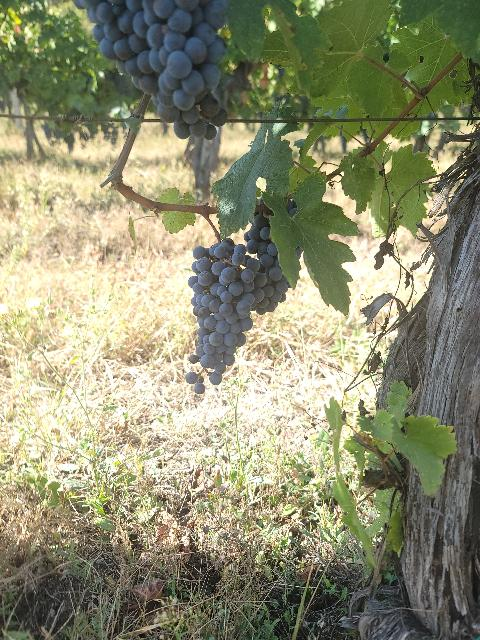grapes: (75, 0, 228, 140), (188, 238, 255, 385), (248, 212, 289, 312)
